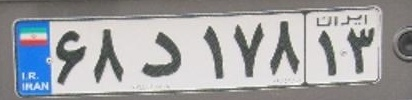character: (139, 23, 192, 89), (265, 18, 303, 82), (93, 23, 130, 86), (232, 20, 270, 80), (55, 27, 90, 88), (199, 21, 232, 82), (345, 26, 378, 75), (315, 31, 340, 77)
